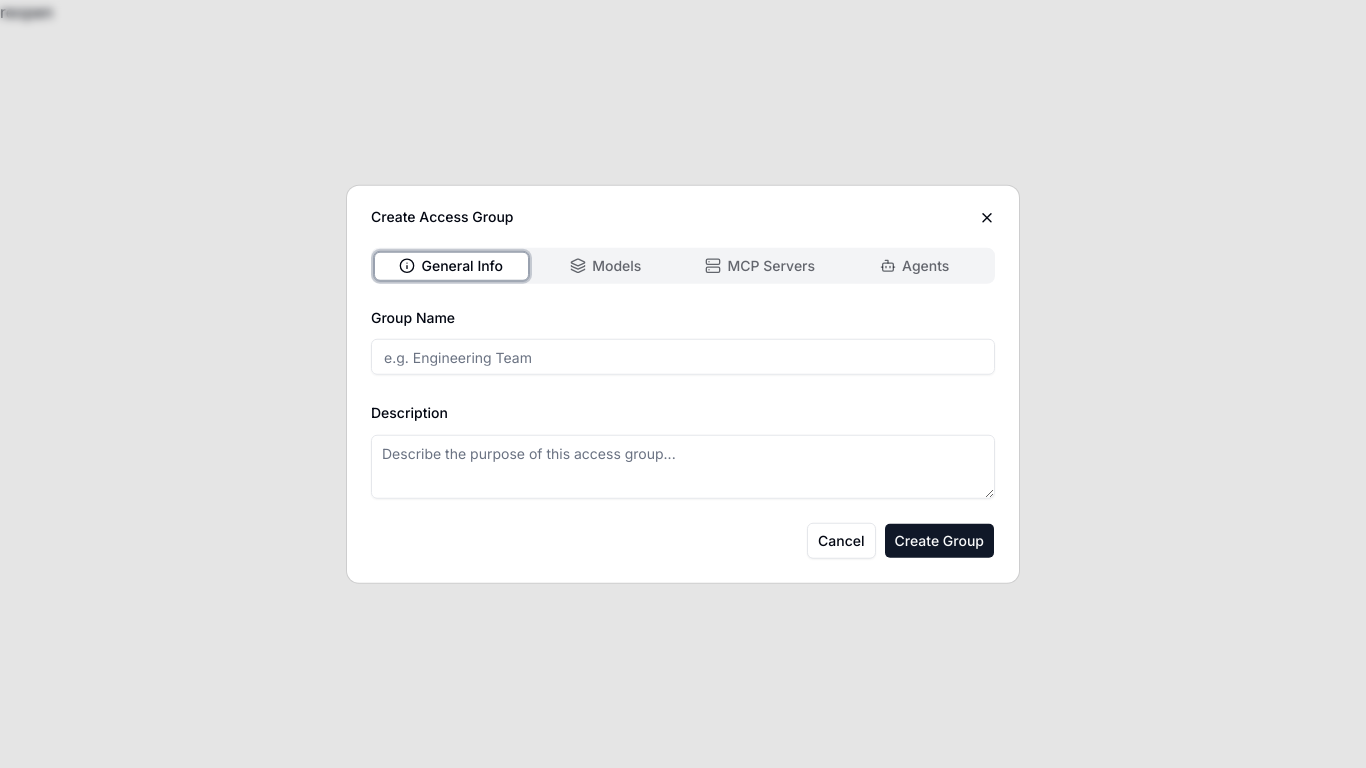
Test: AccessGroupCreateDialog › blocks submit and shows an error when the name is missing
The width and height of the screenshot is (1366, 768).
Click the button "Create Group" at (939, 540), box [884, 522, 995, 558]
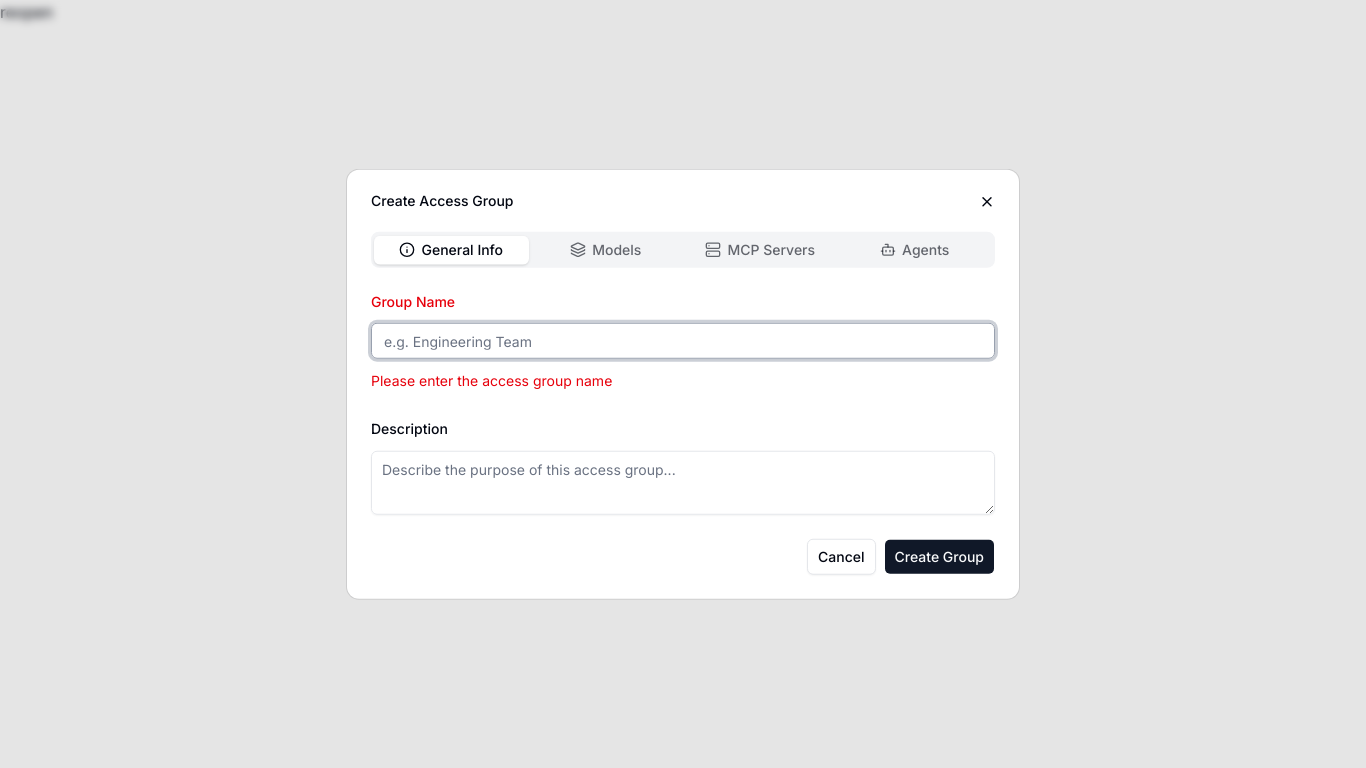
Result: the message reads "Please enter the access group name" at [371, 372, 612, 389]
